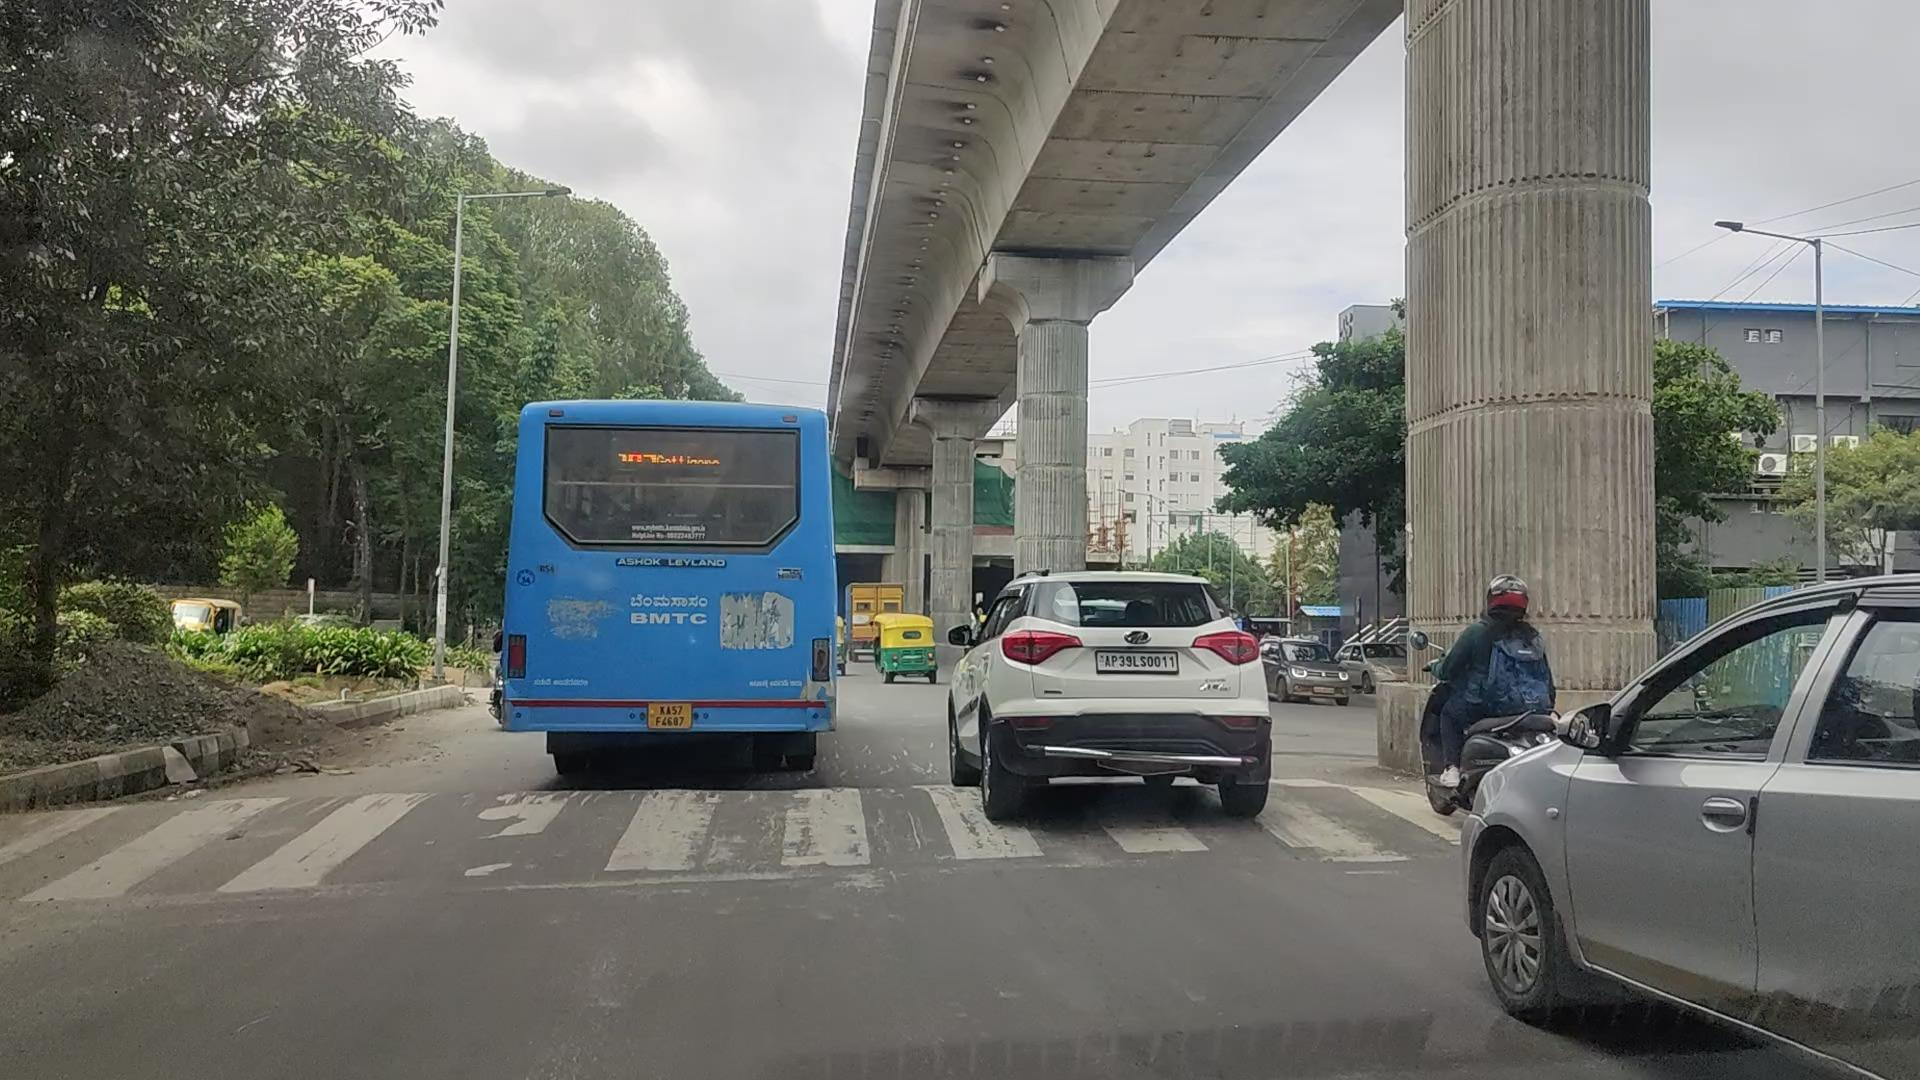LMV: (502, 397, 835, 749), (963, 562, 1262, 819)
SpeedBump: (82, 779, 1424, 889)
